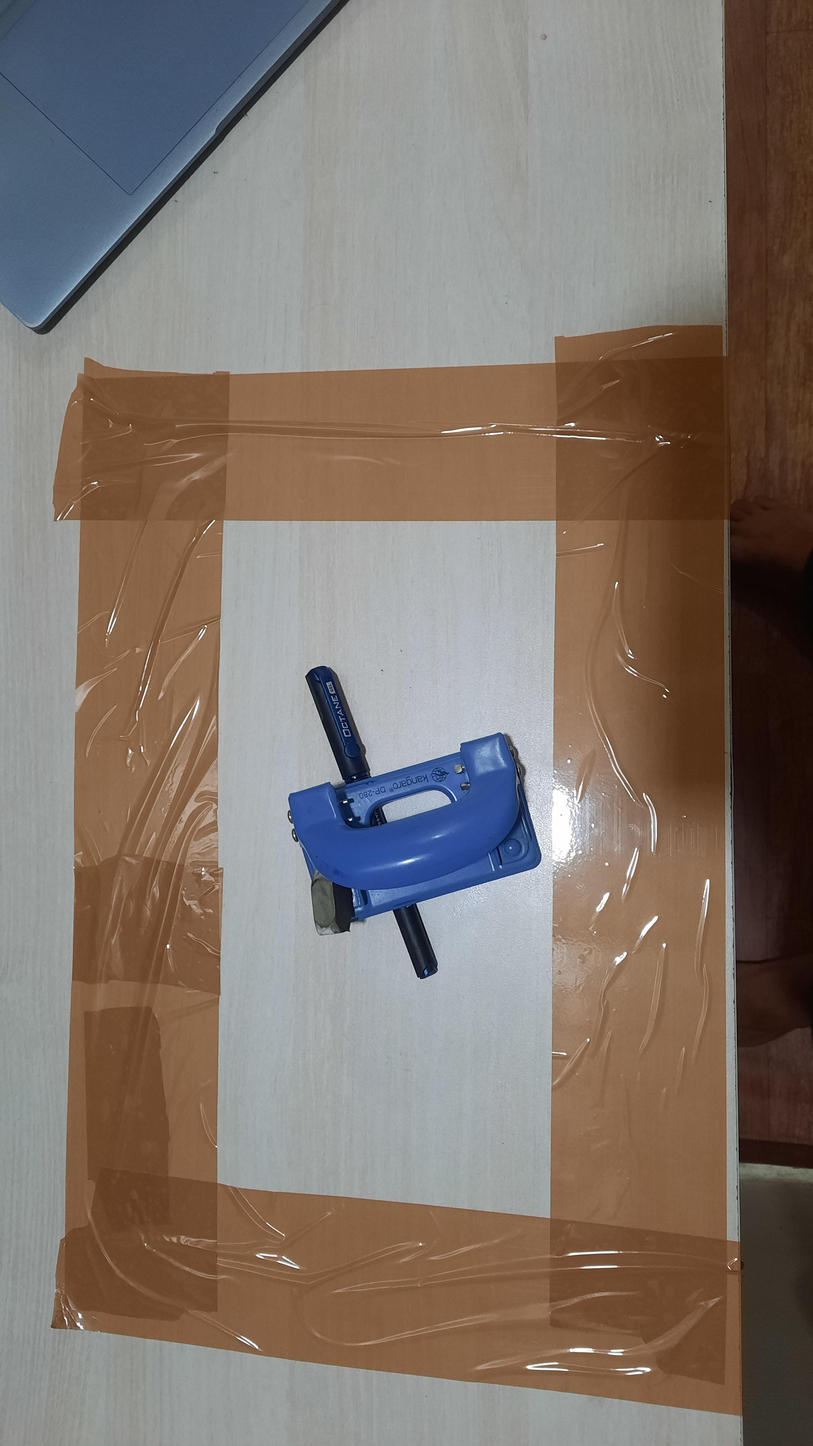Eraser: (311, 872, 351, 936)
Pen: (305, 665, 438, 980)
Punch: (288, 732, 542, 924)
